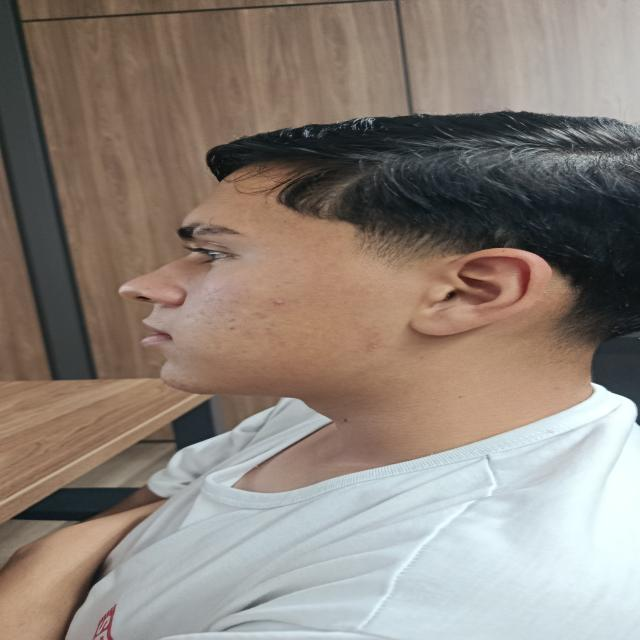sem_oculos: (151, 213, 583, 323)
